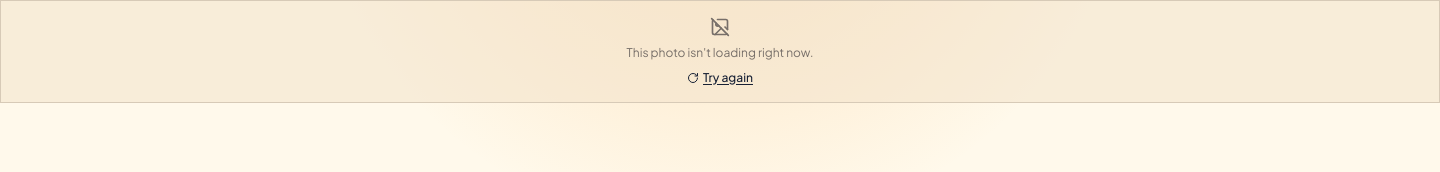
Test: MediaImage 403 fallback › disables "Try again" until the attempt it started has landed
Later steps or results of the test are not shown.
Expected: the picture "This photo isn't loading right now. Try again" is shown, left=0, top=0, right=1439, bottom=102
Click the button "Try again" at (720, 78), box left=687, top=70, right=753, bottom=86
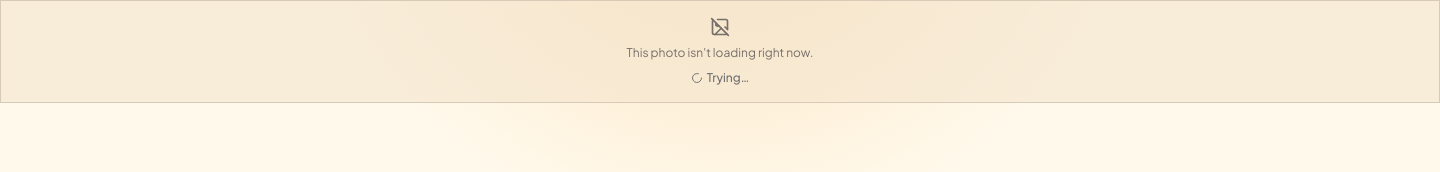
Expected: the button "Trying…" is disabled, left=691, top=70, right=749, bottom=86
